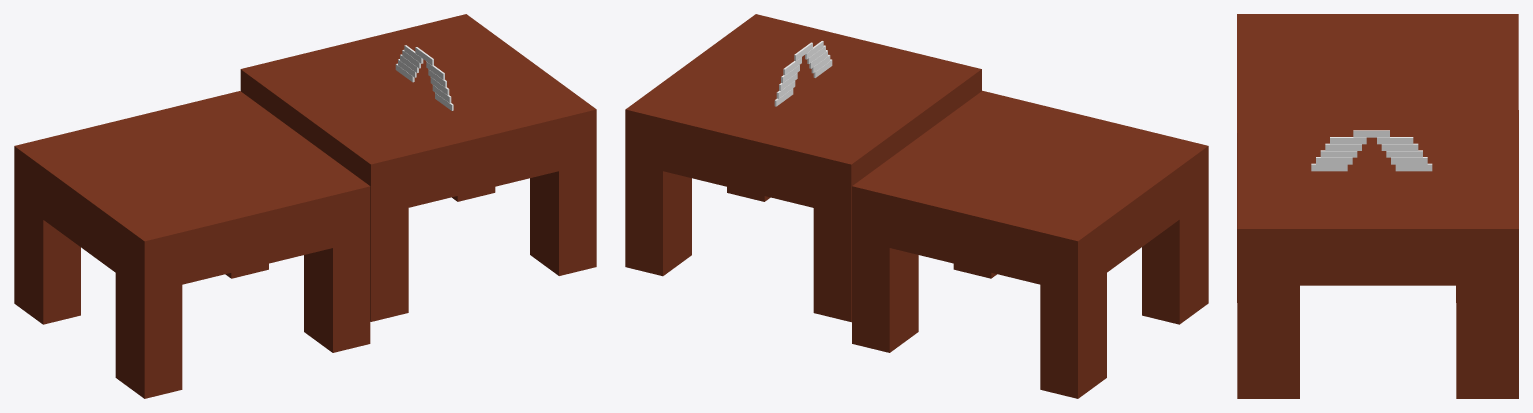
Rendered from keva_bridge_11.dae.
3 views of the same model, side by side, from view 1: azimuth 30°, elevation 25°; view 2: azimuth 150°, elevation 25°; view 3: azimuth 270°, elevation 25° (orthographic). The views are drawn at different scales.
Parts seen in each view (by area): view 1: base (×7); view 2: base (×7); view 3: base (×4), SketchUp (×11).
Boxes of the visible parts, left/top/right/bottom form: base (×7): left=14, top=14, right=596, bottom=398; base (×7): left=625, top=14, right=1208, bottom=398; base (×4): left=1237, top=14, right=1518, bottom=398; SketchUp (×11): left=1311, top=130, right=1432, bottom=171.
Size of the model in its own units: 1.8 by 0.9009 by 0.8247.
